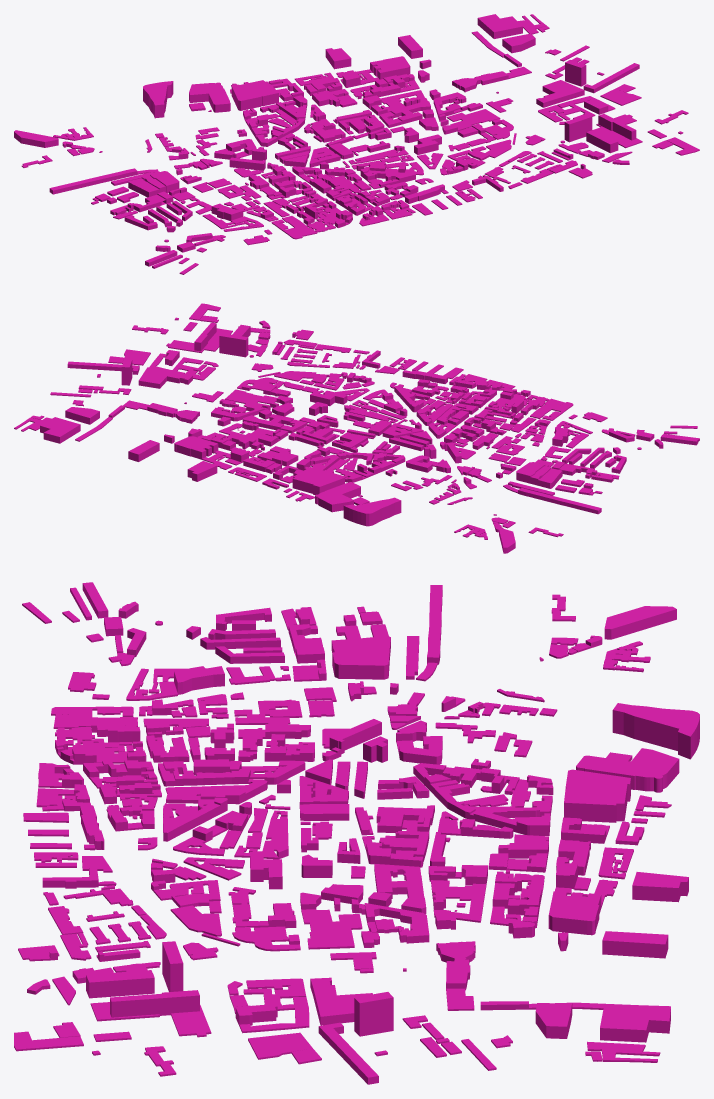
The model's file is old_street.obj.
3 renders of one model, top to bottom at view 1: azimuth 30°, elevation 25°; view 2: azimuth 150°, elevation 25°; view 3: azimuth 270°, elevation 25°, orthographic. The views are drawn at different scales.
Parts seen in each view (by area): view 1: old_street2; view 2: old_street2; view 3: old_street2.
Part boxes in pixels (x1=…): old_street2: x1=14, y1=14, x2=699, y2=274; old_street2: x1=14, y1=303, x2=699, y2=553; old_street2: x1=14, y1=582, x2=699, y2=1084.
Size of the model in its own units: 2117 by 66.5 by 1238.
